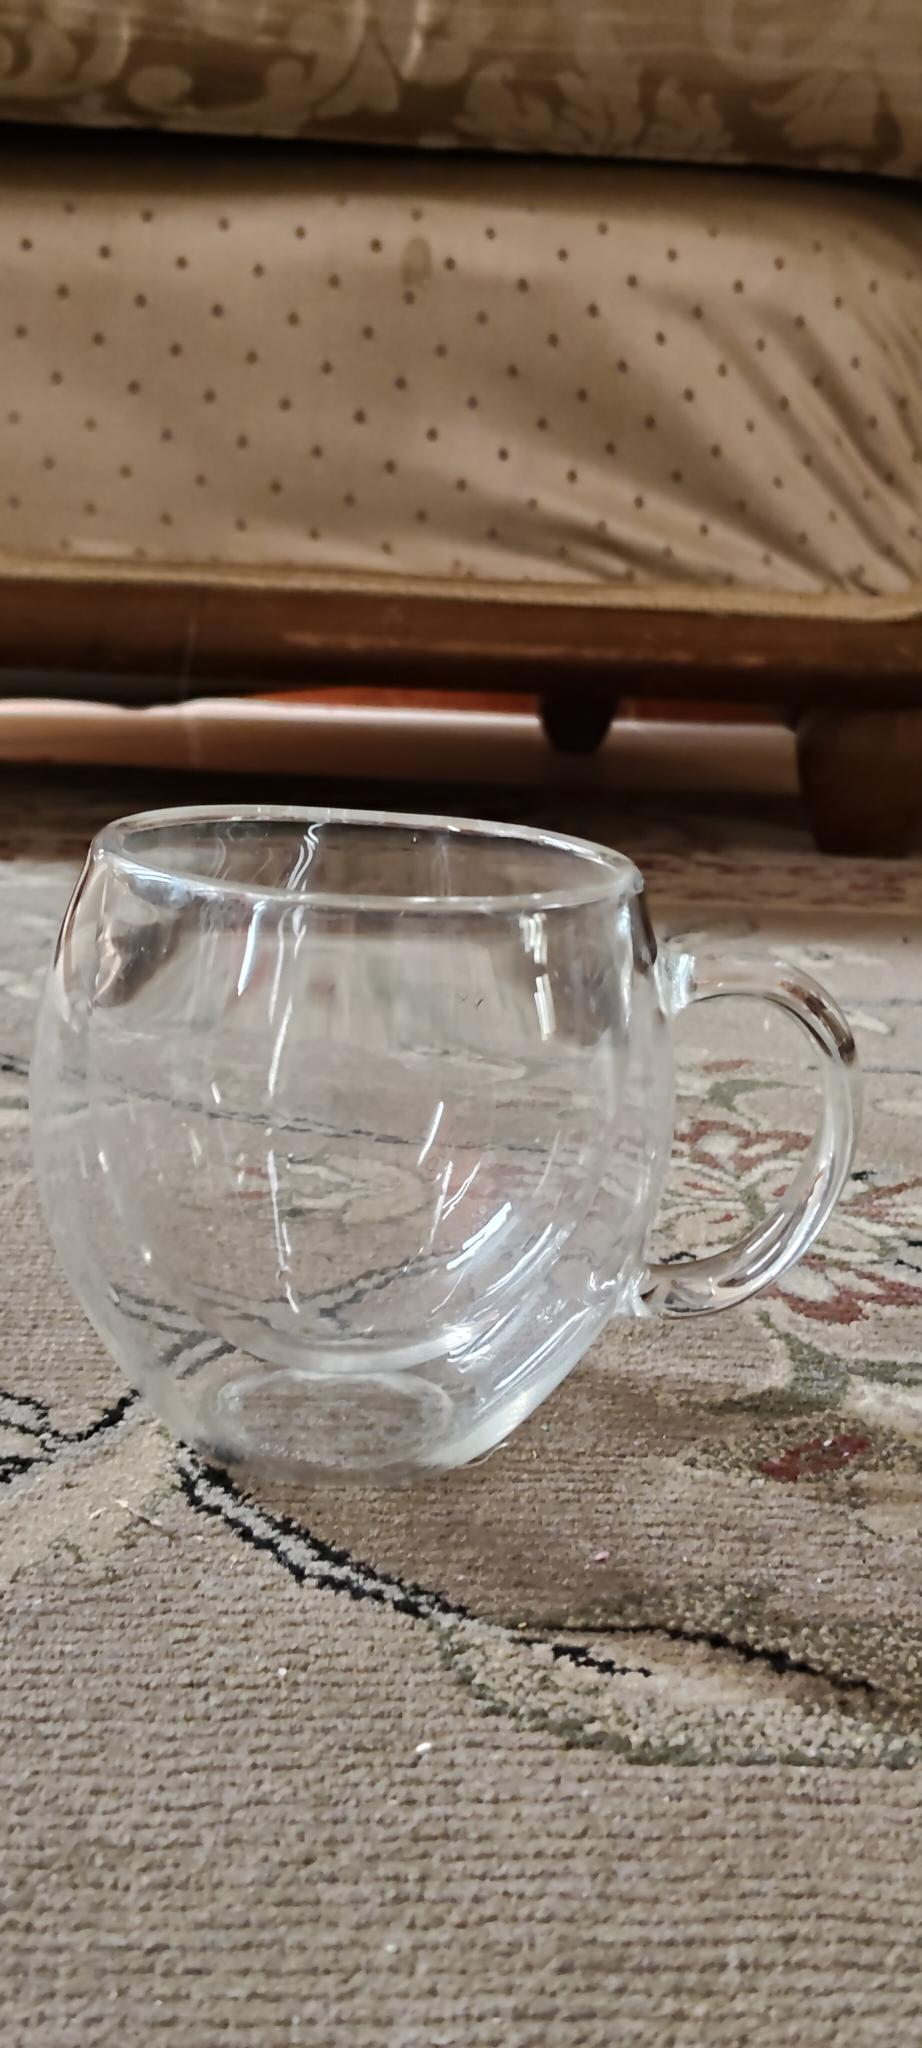Mug: (40, 802, 865, 1462)
